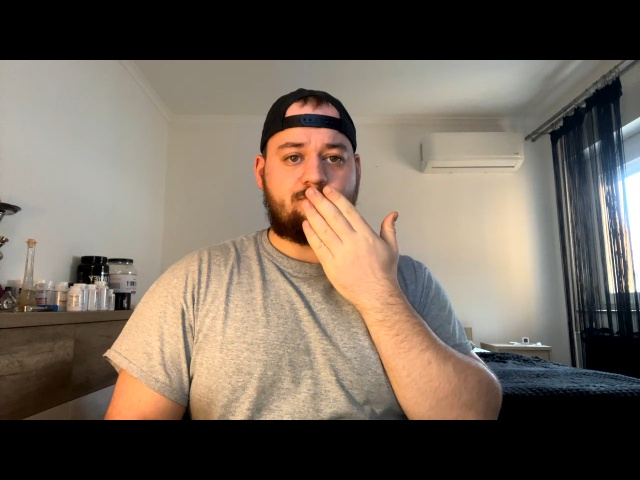ThankYou: (286, 184, 400, 294)
